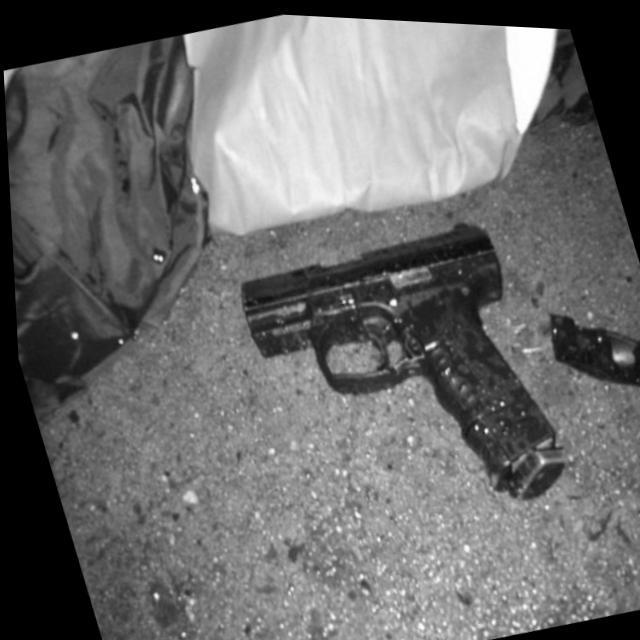weapon: (223, 198, 573, 550)
